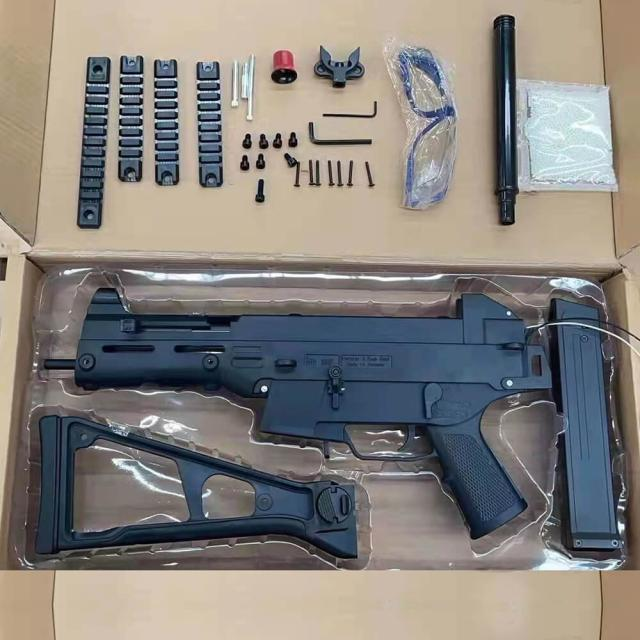Gun: (50, 279, 546, 556)
